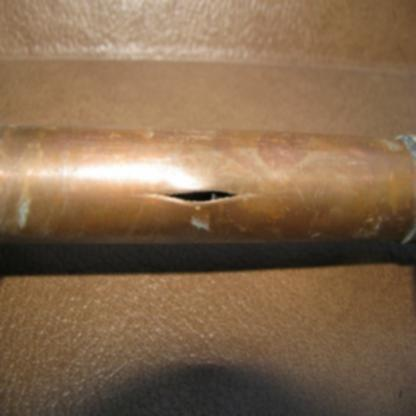burst: (123, 174, 273, 230)
